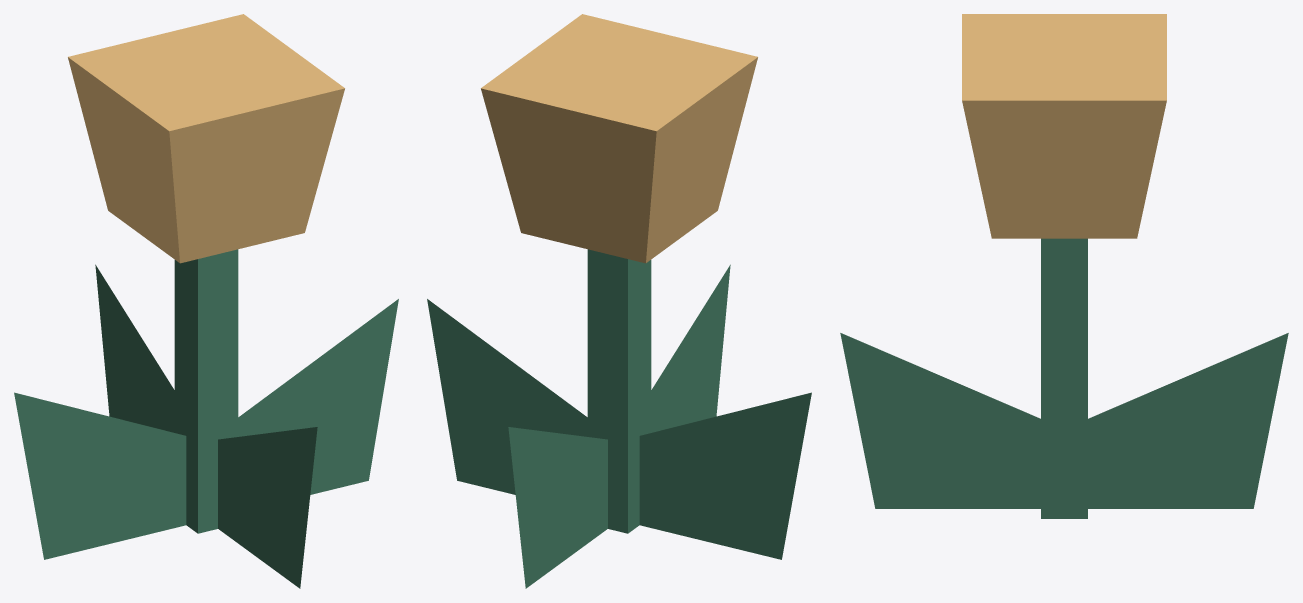
Rendered from Flower_Tall_Yellow_01.obj.
3 renders of one model, left to right at view 1: azimuth 30°, elevation 25°; view 2: azimuth 150°, elevation 25°; view 3: azimuth 270°, elevation 25°, orthographic.
Parts seen in each view (by area): view 1: Mesh1_Flower_Tall_Yellow_Model; view 2: Mesh1_Flower_Tall_Yellow_Model; view 3: Mesh1_Flower_Tall_Yellow_Model.
Part boxes in pixels (x1,y1,x2,y2): Mesh1_Flower_Tall_Yellow_Model: [14, 14, 398, 588]; Mesh1_Flower_Tall_Yellow_Model: [427, 14, 811, 588]; Mesh1_Flower_Tall_Yellow_Model: [840, 14, 1288, 518].
Size of the model in its own units: 0.4859 by 0.54 by 0.4859.
